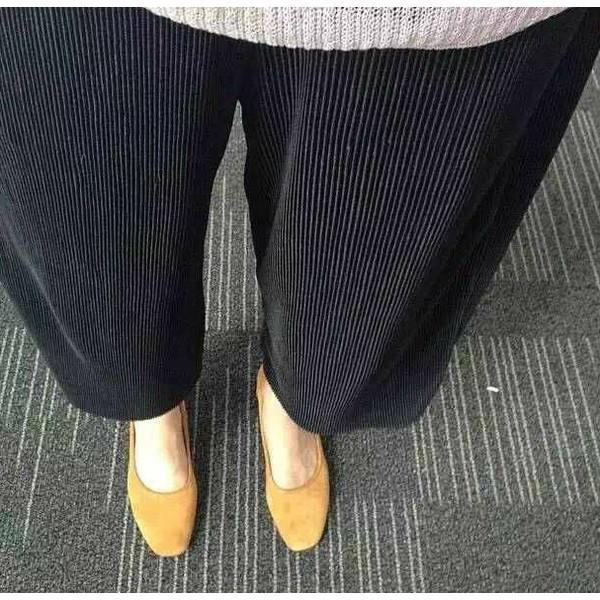Pants_Leggings: (1, 7, 594, 433)
